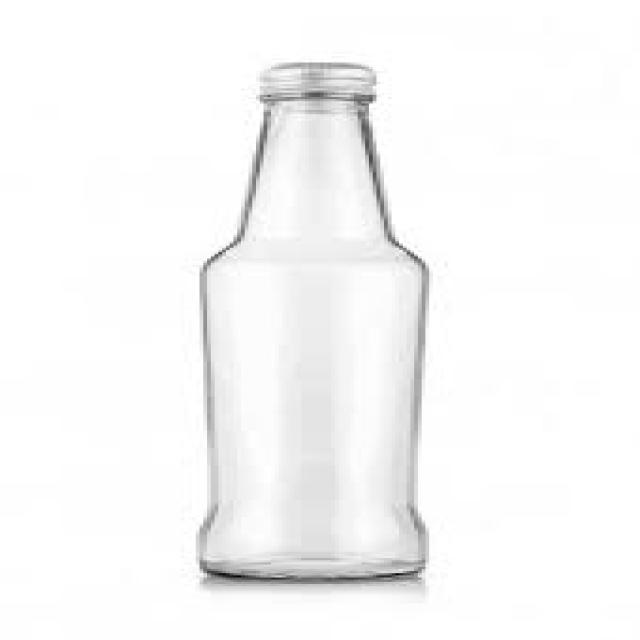glass: (196, 91, 425, 578)
metal: (249, 63, 373, 104)
